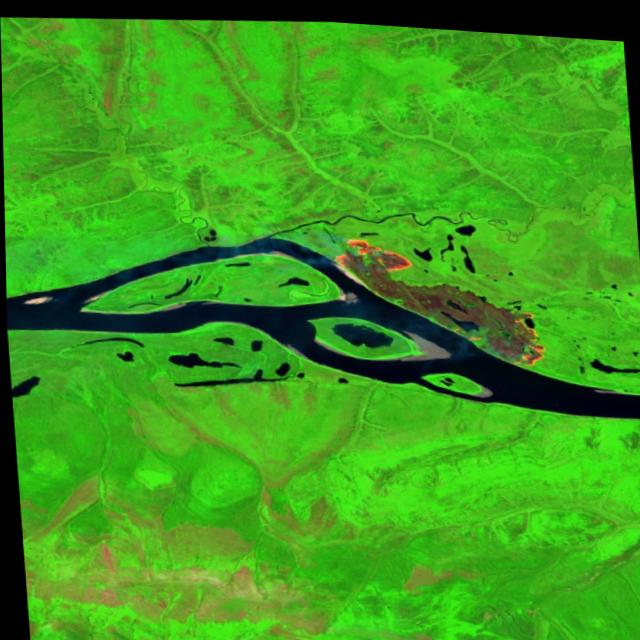fire: (327, 218, 555, 373)
